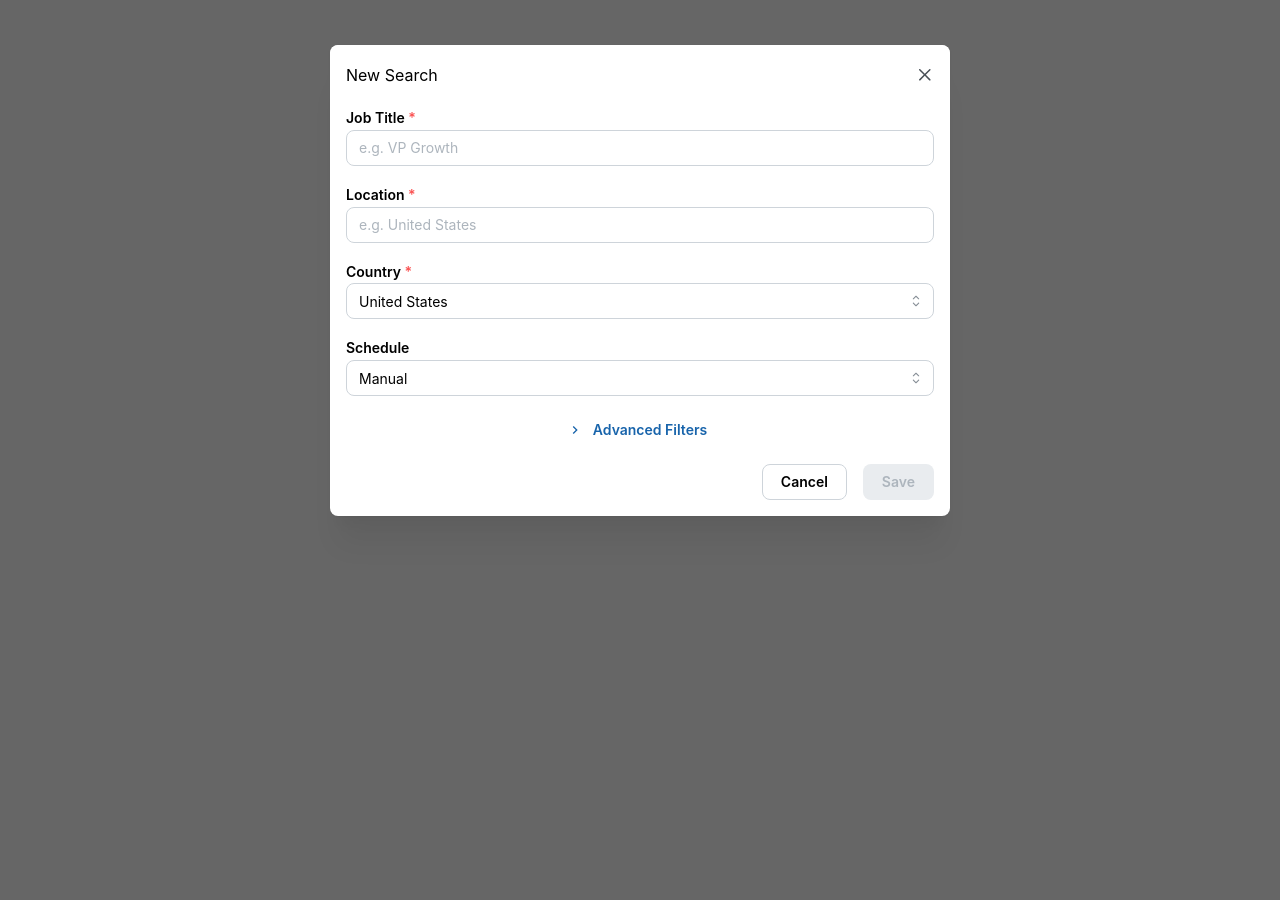
Test: SearchModal - text input › enables the Save button only when both title and location are filled
The image size is (1280, 900).
expect the button "Save" is disabled: met, box [863,464,934,500]
Step 1. Type "VP Growth" into the field labelled "Job Title" → point(640, 148), box [346,130,934,166]
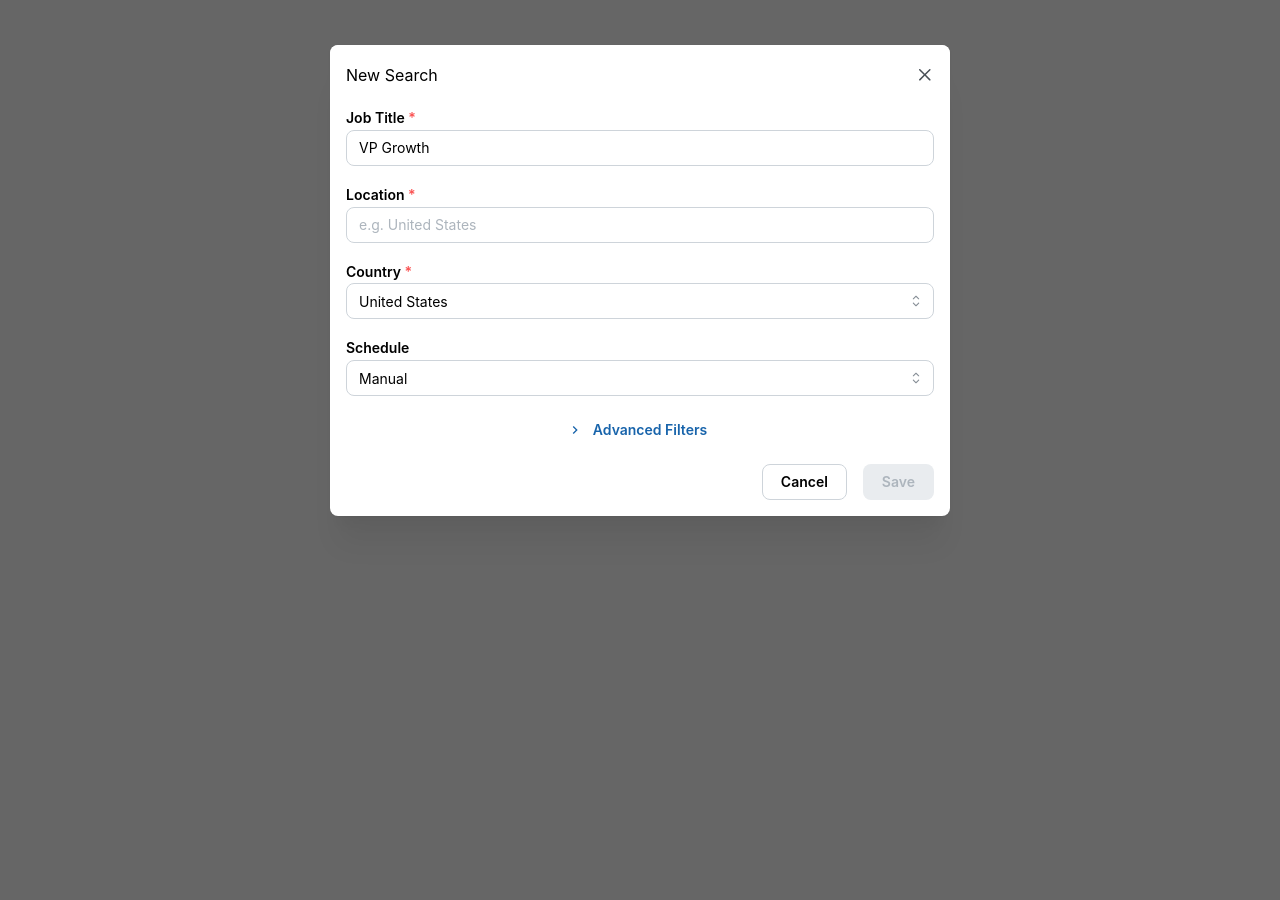
expect the button "Save" is disabled: met, box [863,464,934,500]
Step 2. Type "United States" into the field labelled "Location" → point(640, 225), box [346,207,934,243]
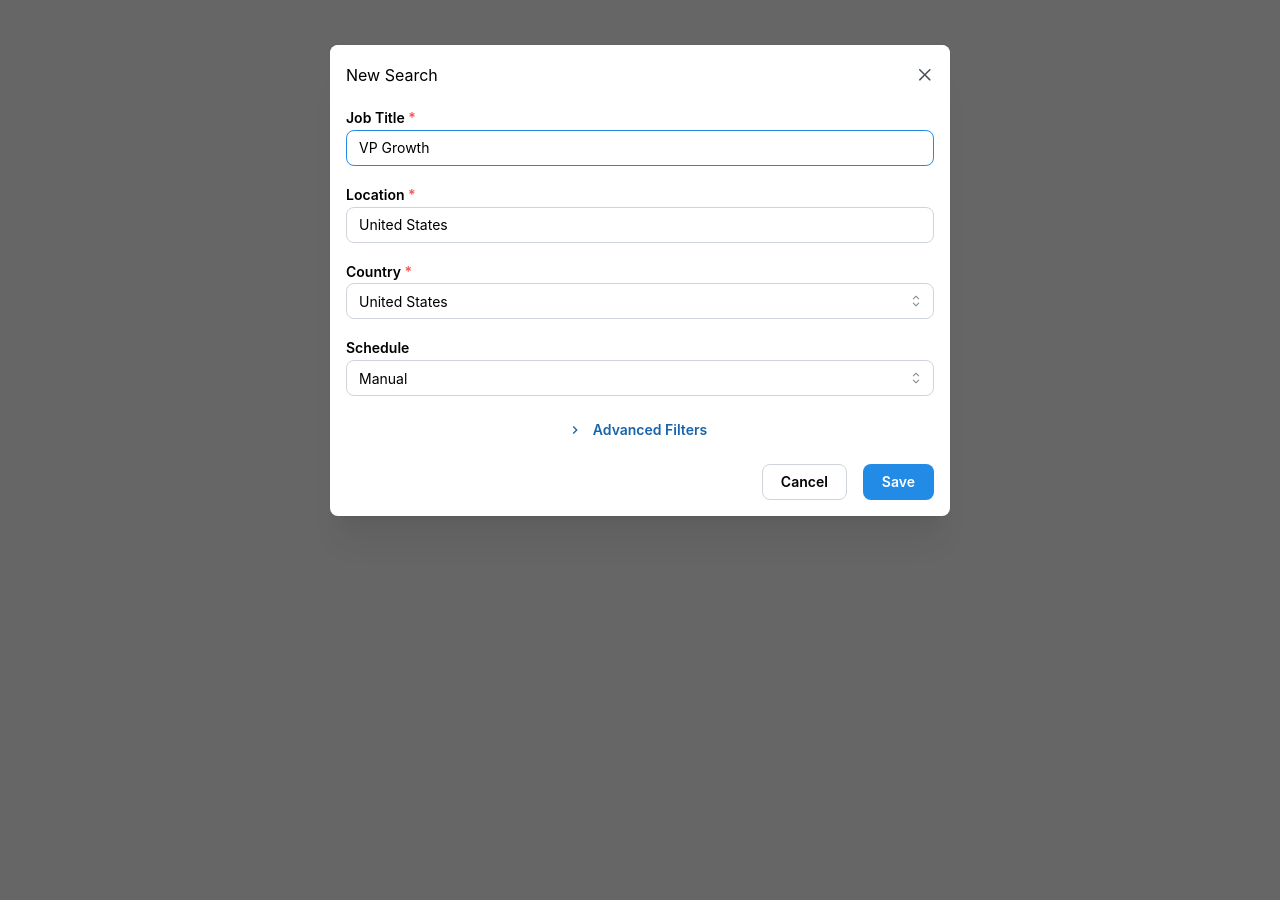
expect the button "Save" is enabled: met, box [863,464,934,500]
